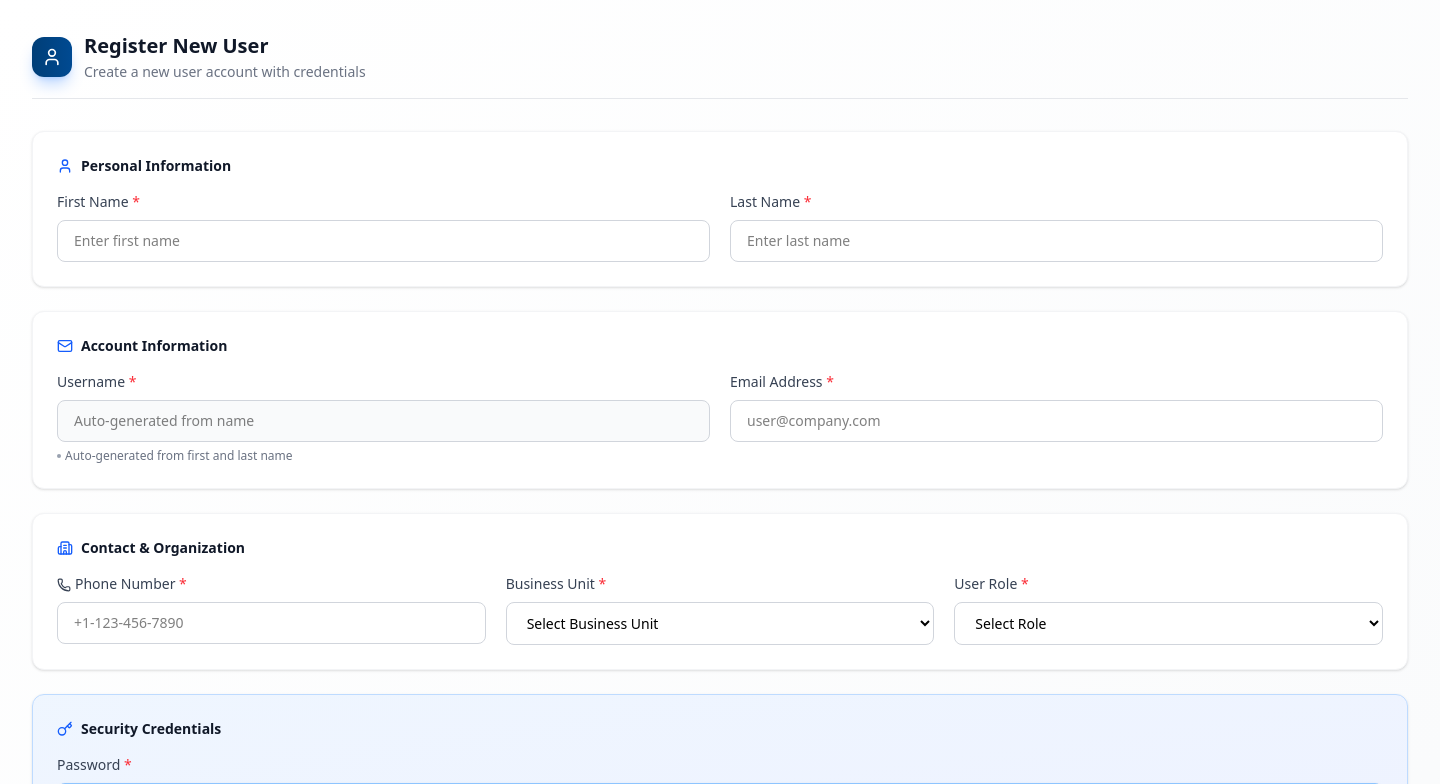
Test: UserForm › removes spaces from username
Type "Mary Jane" into the field with placeholder "Enter first name".
click(384, 241); type("Mary Jane")  # box [57,220,710,262]
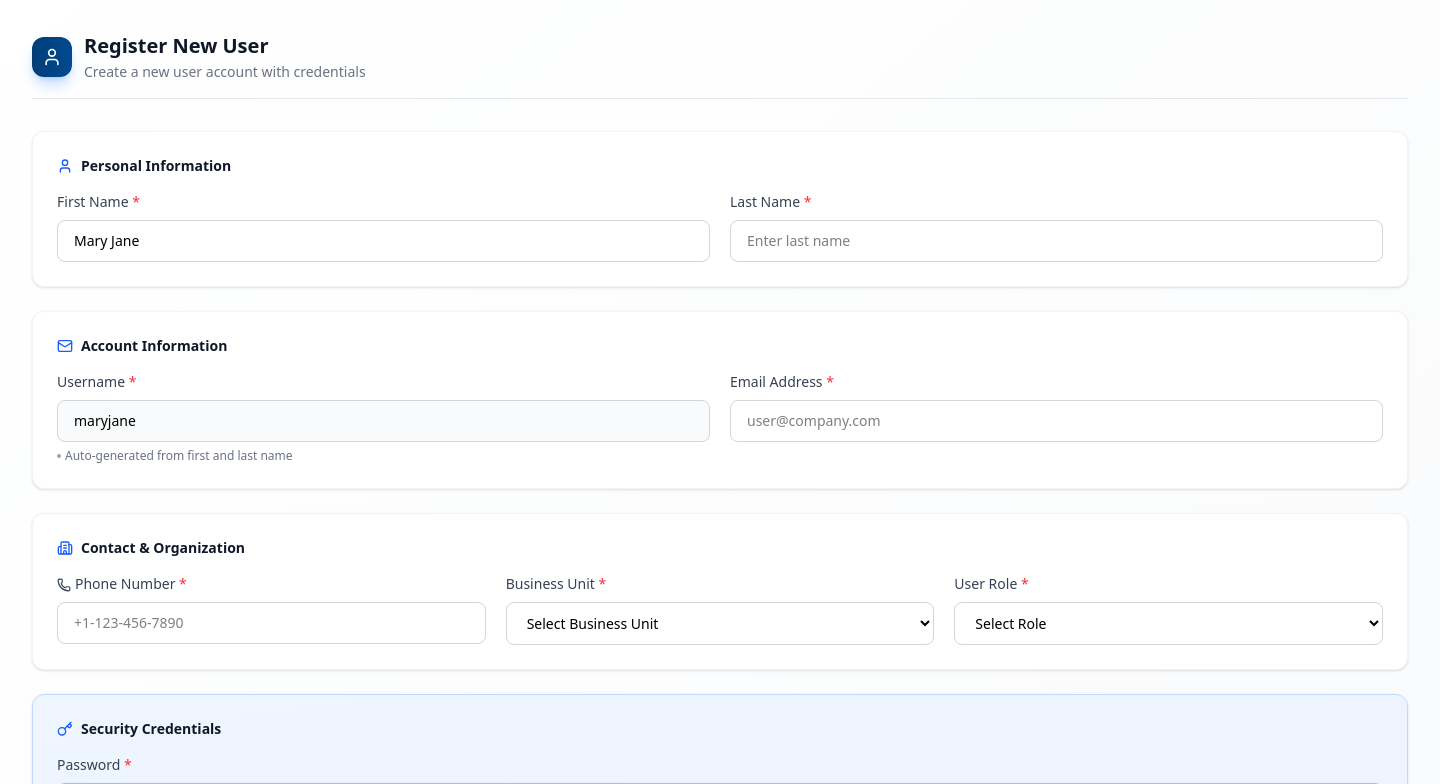
Type "Van Der Berg" into the field with placeholder "Enter last name".
click(1056, 241); type("Van Der Berg")  # box [730,220,1383,262]
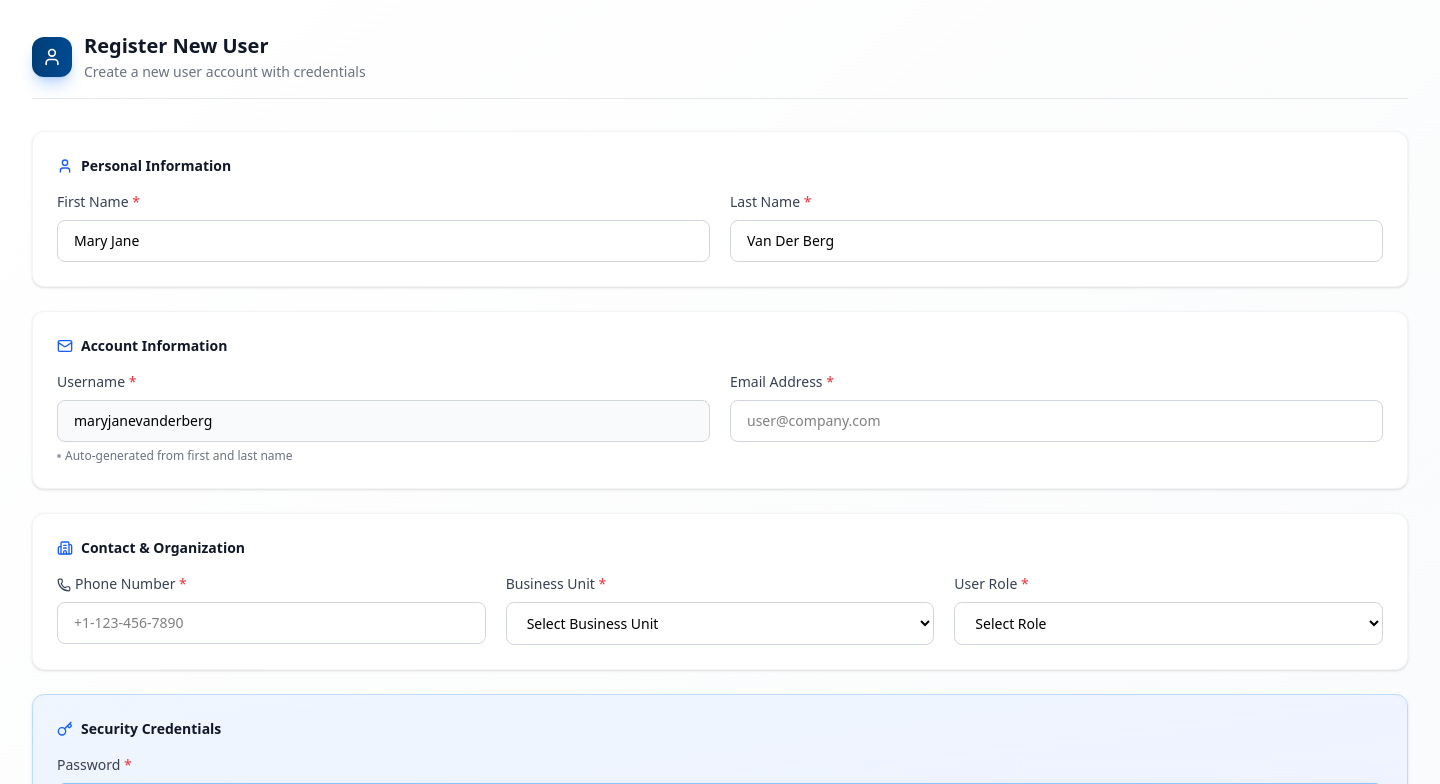
Result: the field with placeholder "Auto-generated from name" holds "maryjanevanderberg" at [57,400,710,442]
